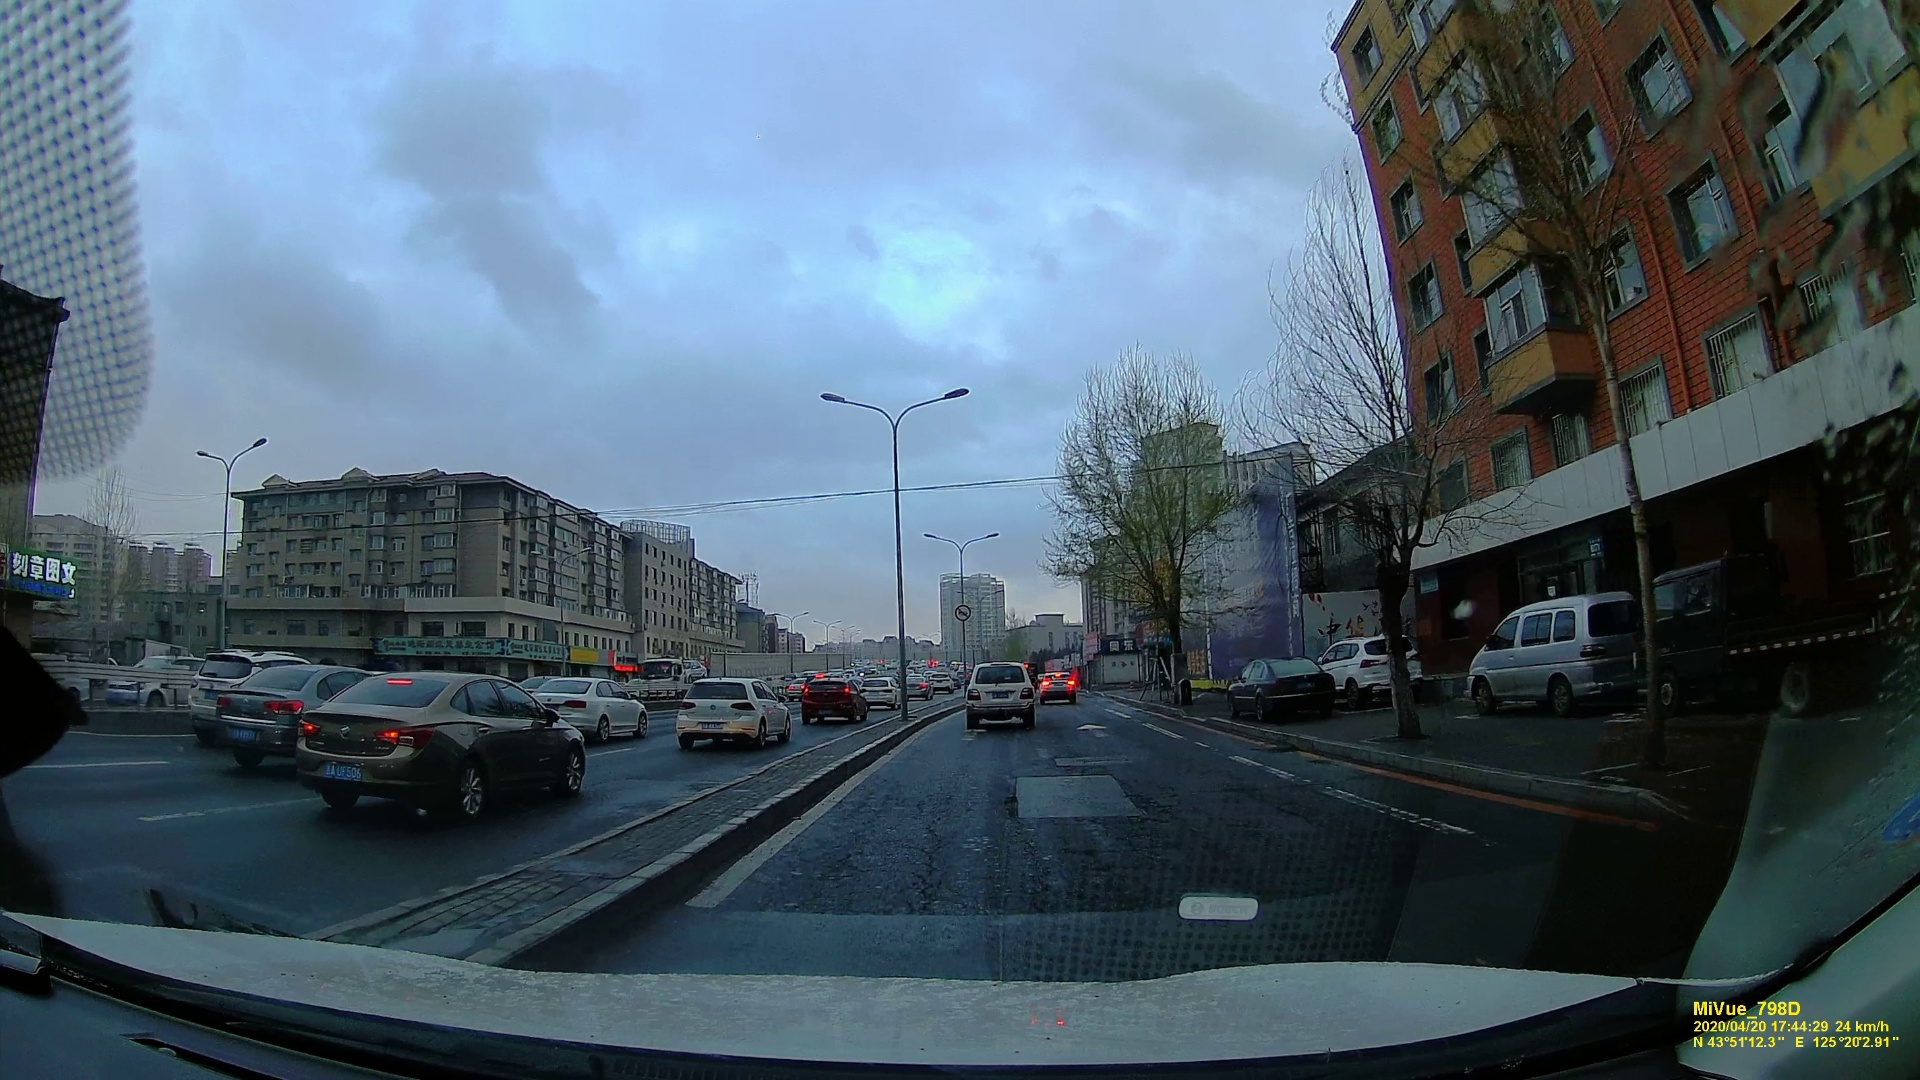vehicle: (277, 665, 589, 825), (1472, 593, 1646, 717), (189, 645, 361, 764), (675, 674, 793, 749), (524, 673, 647, 740), (1228, 655, 1338, 717), (1316, 632, 1408, 698), (963, 659, 1038, 729), (796, 676, 868, 723), (1040, 671, 1079, 699)
